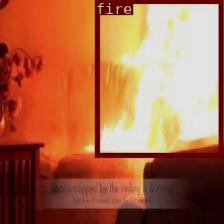fire: (95, 0, 222, 156)
